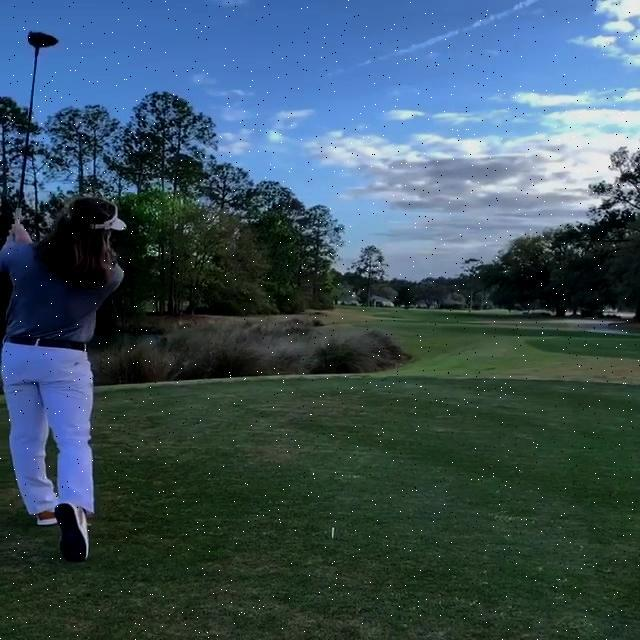ClubHandle: (11, 27, 65, 243)
ClubHead: (27, 30, 60, 48)
